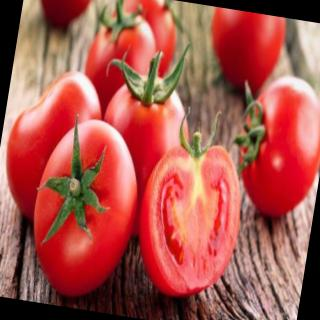Tomat: (128, 101, 258, 307), (83, 32, 206, 243), (21, 110, 151, 306), (224, 68, 320, 224)
